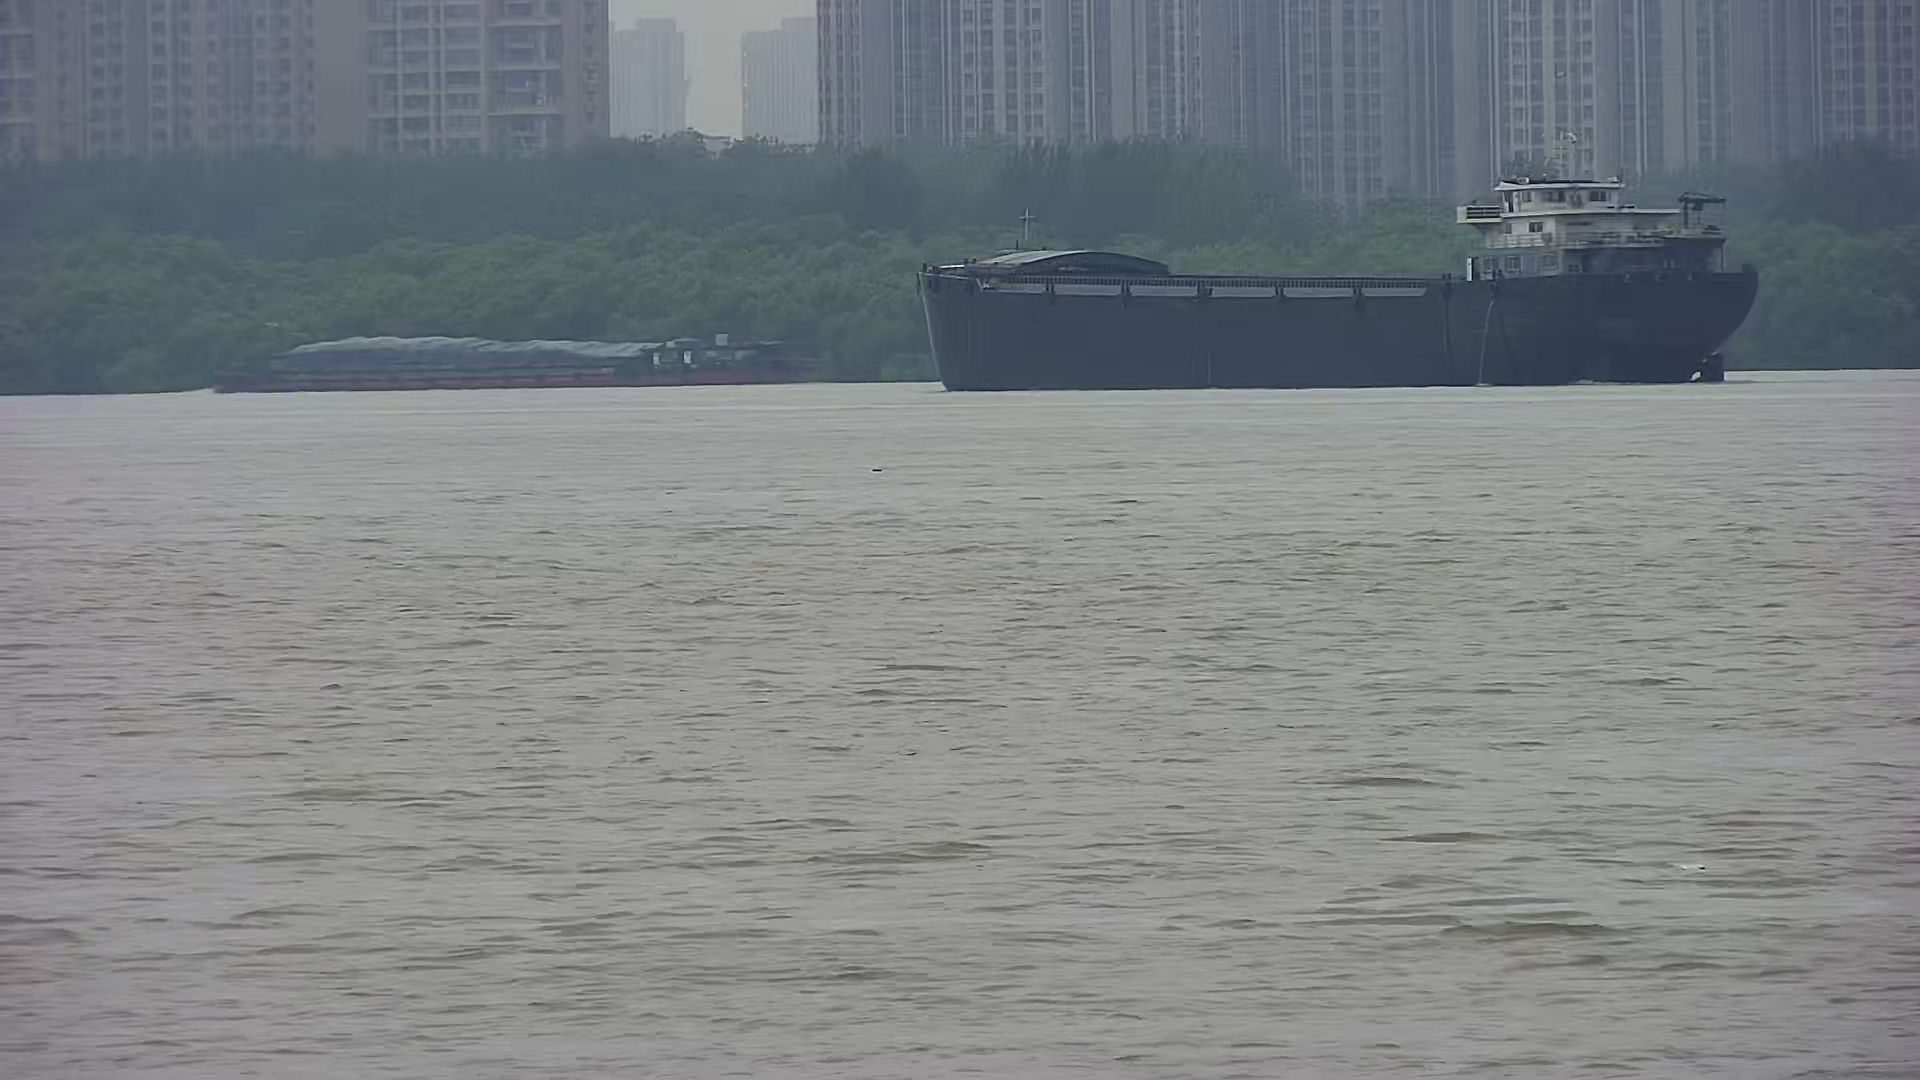ship: (914, 175, 1756, 392), (219, 320, 818, 382)
